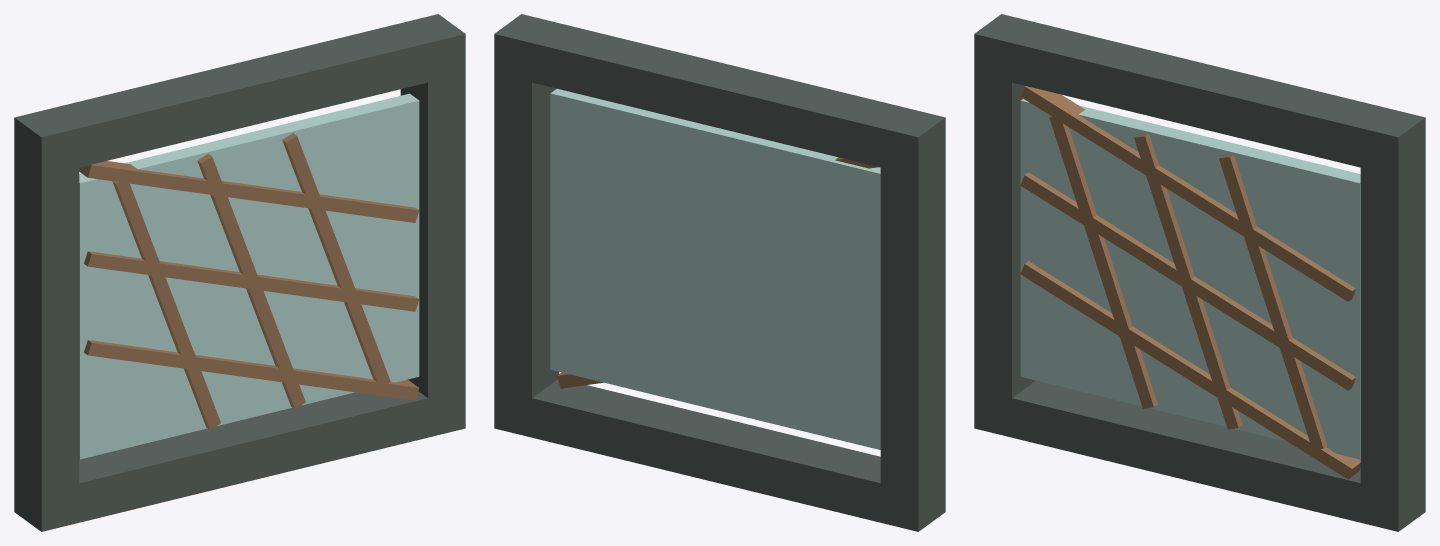
3 views of the same model, side by side, from view 1: azimuth 30°, elevation 25°; view 2: azimuth 150°, elevation 25°; view 3: azimuth 330°, elevation 25° (orthographic).
Visible parts, largest first — view 1: pane, frame-top, frame-bottom, frame-left, frame-right, lattice-h-0.18, lattice-h--0.18, lattice-h-0, lattice-v-0, lattice-v--0.18, lattice-v-0.18; view 2: pane, frame-top, frame-bottom, frame-left, frame-right; view 3: pane, frame-top, frame-bottom, frame-right, frame-left, lattice-h-0.18, lattice-h--0.18, lattice-h-0, lattice-v-0.18, lattice-v--0.18, lattice-v-0.
Part boxes in pixels (left/top/right/bottom): pane: left=79, top=93, right=419, bottom=459; frame-top: left=14, top=14, right=465, bottom=176; frame-bottom: left=14, top=389, right=465, bottom=531; frame-left: left=14, top=157, right=79, bottom=492; frame-right: left=400, top=73, right=465, bottom=397; lattice-h-0.18: left=79, top=161, right=419, bottom=222; lattice-h--0.18: left=84, top=340, right=419, bottom=400; lattice-h-0: left=84, top=251, right=419, bottom=311; lattice-v-0: left=197, top=153, right=305, bottom=408; lattice-v--0.18: left=112, top=178, right=220, bottom=429; lattice-v-0.18: left=282, top=133, right=390, bottom=383; pane: left=550, top=88, right=880, bottom=449; frame-top: left=494, top=14, right=945, bottom=176; frame-bottom: left=494, top=379, right=945, bottom=531; frame-left: left=880, top=157, right=945, bottom=492; frame-right: left=494, top=73, right=559, bottom=397; pane: left=1020, top=98, right=1360, bottom=459; frame-top: left=974, top=14, right=1425, bottom=176; frame-bottom: left=974, top=380, right=1425, bottom=531; frame-right: left=1360, top=157, right=1425, bottom=492; frame-left: left=974, top=73, right=1035, bottom=397; lattice-h-0.18: left=1020, top=86, right=1355, bottom=301; lattice-h--0.18: left=1020, top=261, right=1360, bottom=479; lattice-h-0: left=1020, top=172, right=1355, bottom=390; lattice-v-0.18: left=1219, top=154, right=1327, bottom=449; lattice-v--0.18: left=1049, top=115, right=1157, bottom=408; lattice-v-0: left=1134, top=133, right=1242, bottom=429.
Size of the model in its own units: 0.9 by 0.8 by 0.1.
